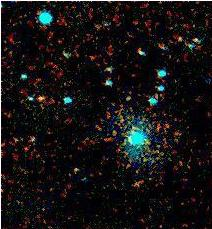star: (114, 81, 144, 111)
